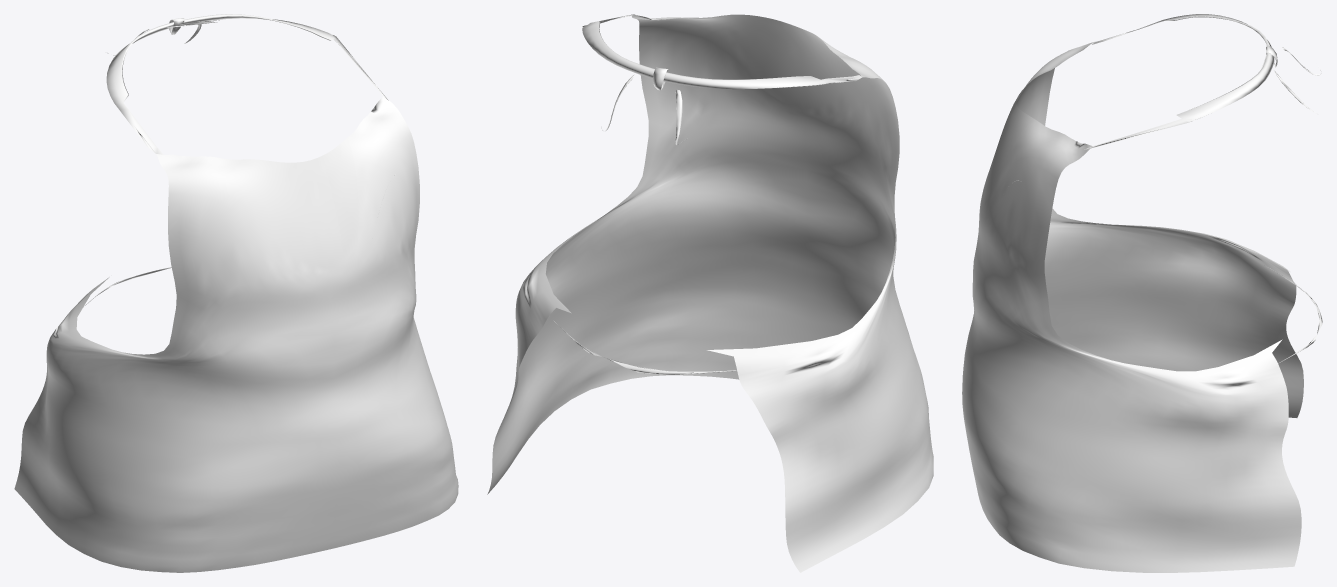
Rendered from Apron.glb.
The picture shows the model from 3 angles, left to right: view 1: azimuth 30°, elevation 25°; view 2: azimuth 150°, elevation 25°; view 3: azimuth 270°, elevation 25°; orthographic projection. The views are drawn at different scales.
Visible parts, largest first — view 1: Apron; view 2: Apron; view 3: Apron.
Part boxes in pixels (x1,y1,x2,y2): Apron: [14, 14, 458, 572]; Apron: [487, 14, 933, 572]; Apron: [962, 14, 1322, 572].
Bounding box in the file's own units: 0.3446 × 0.4123 × 0.3047.
1 material, 1 textured.
